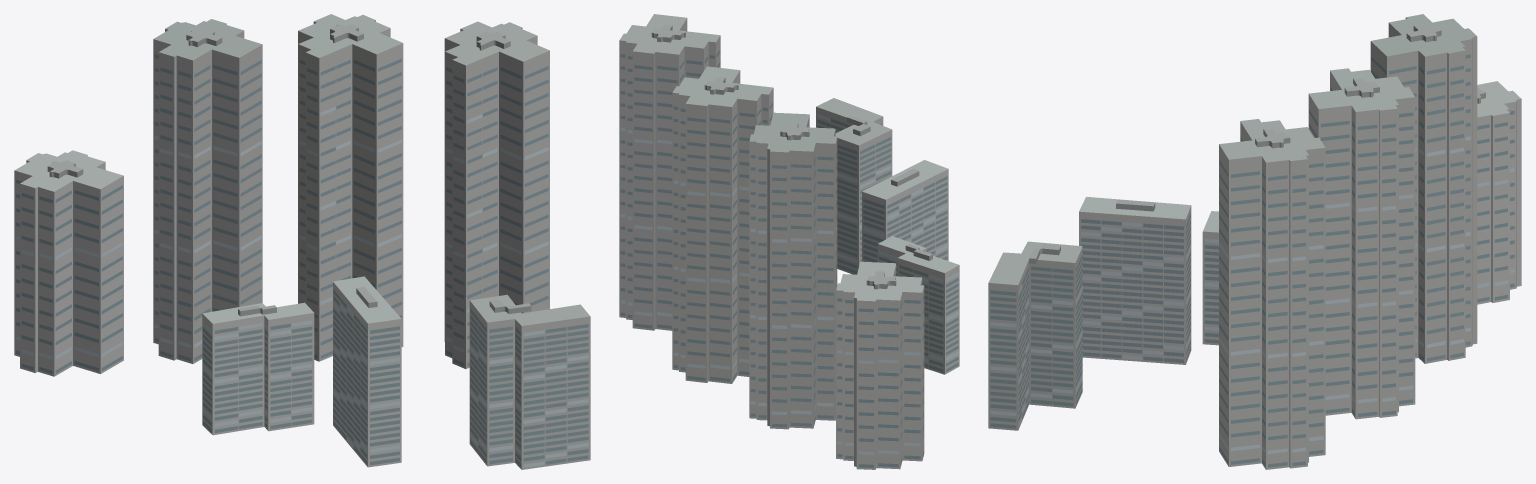
File: apt-a10023604.glb
3 renders of one model, left to right at view 1: azimuth 30°, elevation 25°; view 2: azimuth 150°, elevation 25°; view 3: azimuth 270°, elevation 25°, orthographic. The views are drawn at different scales.
Parts seen in each view (by area): view 1: apt-a10023604; view 2: apt-a10023604; view 3: apt-a10023604.
Boxes of the visible parts, box(x1,y1,x2,y2) form: apt-a10023604: box(14, 14, 590, 469); apt-a10023604: box(619, 14, 959, 469); apt-a10023604: box(988, 14, 1521, 469).
Size of the model in its own units: 202 by 143 by 221.
